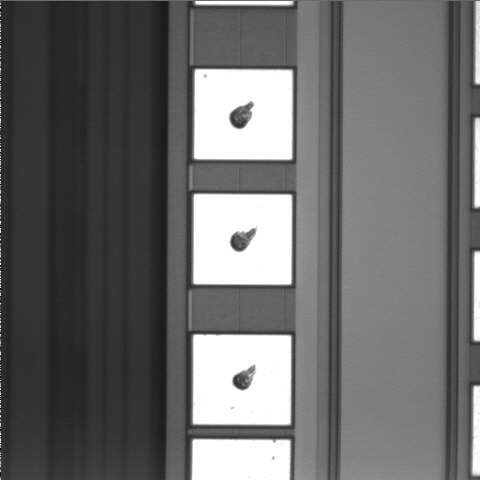pad: (194, 69, 293, 160), (193, 194, 292, 285), (193, 335, 291, 425)
